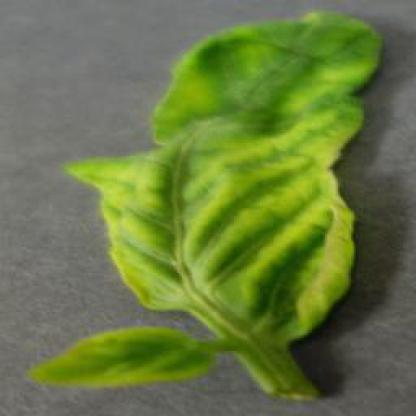good leaf: (29, 9, 408, 398)
